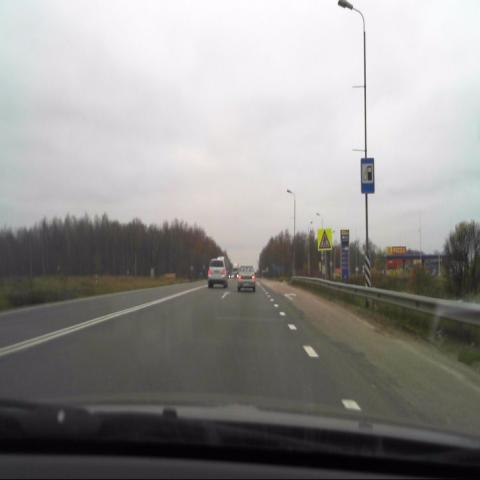1_22: (316, 227, 332, 254)
